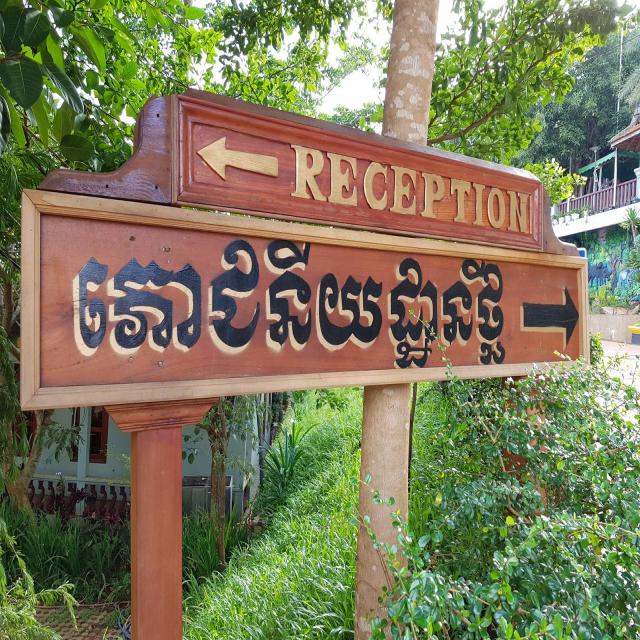Yolov11_80vkh: (67, 237, 523, 395)
